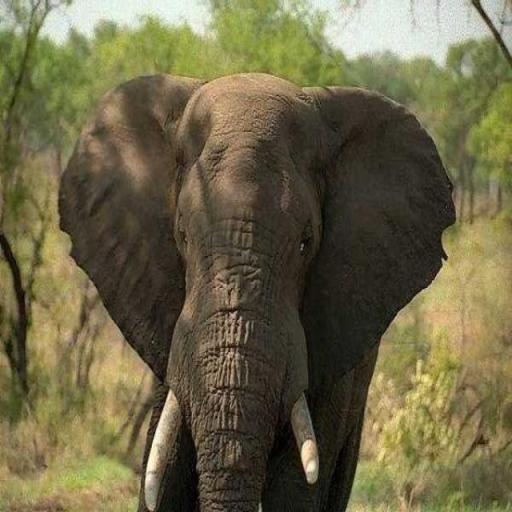Elephant: (56, 69, 457, 511)
